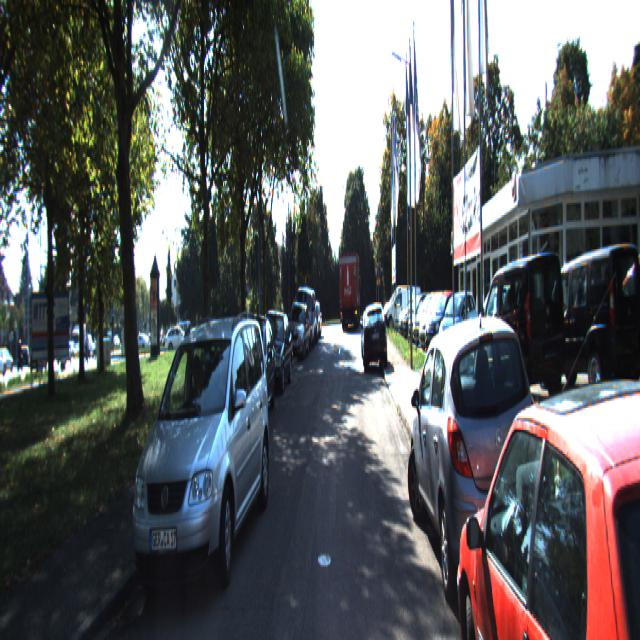Car: (452, 343, 640, 638), (409, 310, 557, 632), (125, 313, 274, 612), (534, 224, 640, 402), (472, 244, 572, 403), (596, 245, 640, 388), (226, 308, 277, 428), (252, 306, 296, 395), (437, 288, 482, 359), (424, 288, 463, 354), (362, 301, 390, 373), (338, 253, 362, 332), (286, 296, 311, 358), (387, 282, 418, 328), (295, 285, 316, 350)
